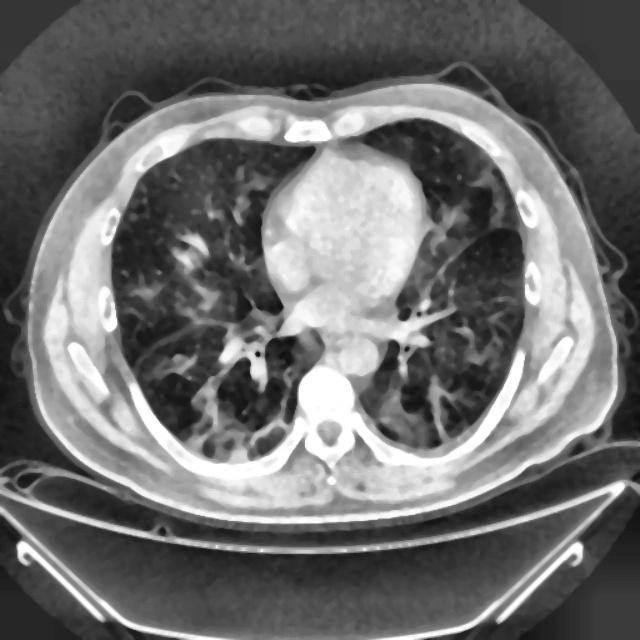covid: (14, 71, 628, 532)
